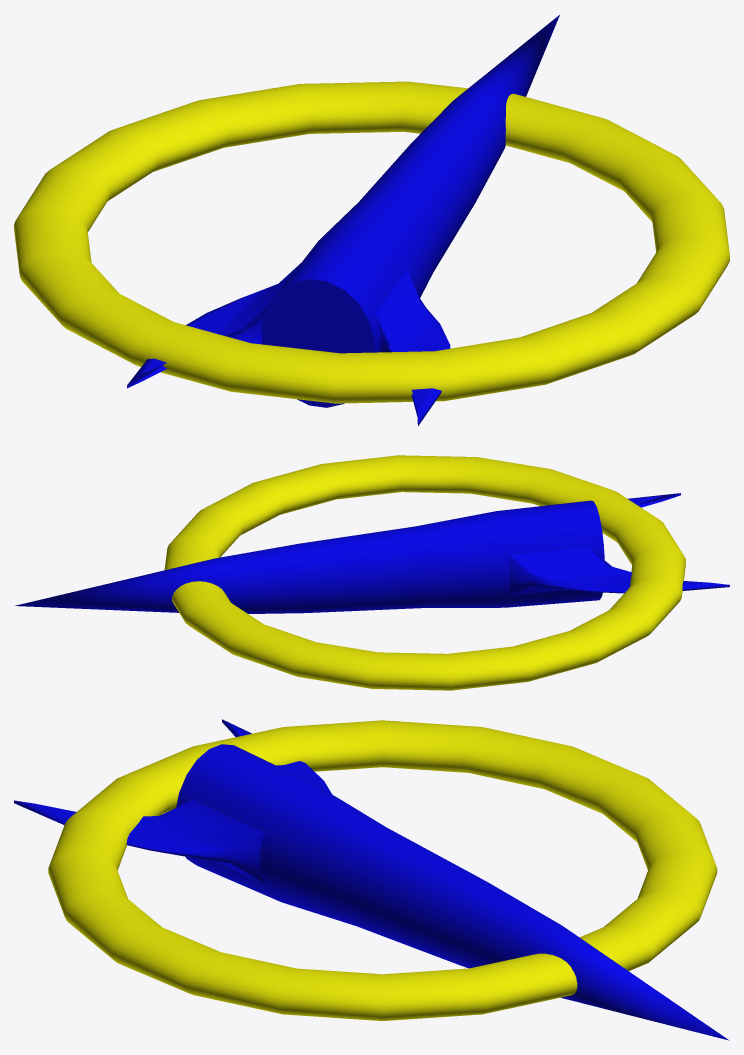
The model's file is HeatMisslesIcon.fbx.
3 views of the same model, one above another, from view 1: azimuth 30°, elevation 25°; view 2: azimuth 150°, elevation 25°; view 3: azimuth 270°, elevation 25° (orthographic). The views are drawn at different scales.
Visible parts, largest first — view 1: polySurface24; view 2: polySurface24; view 3: polySurface24.
Part boxes in pixels (x1,y1,x2,y2): polySurface24: (14,15,729,425); polySurface24: (15,455,729,690); polySurface24: (14,719,729,1040).
Bounding box in the file's own units: 11 × 1.88 × 10.39.
